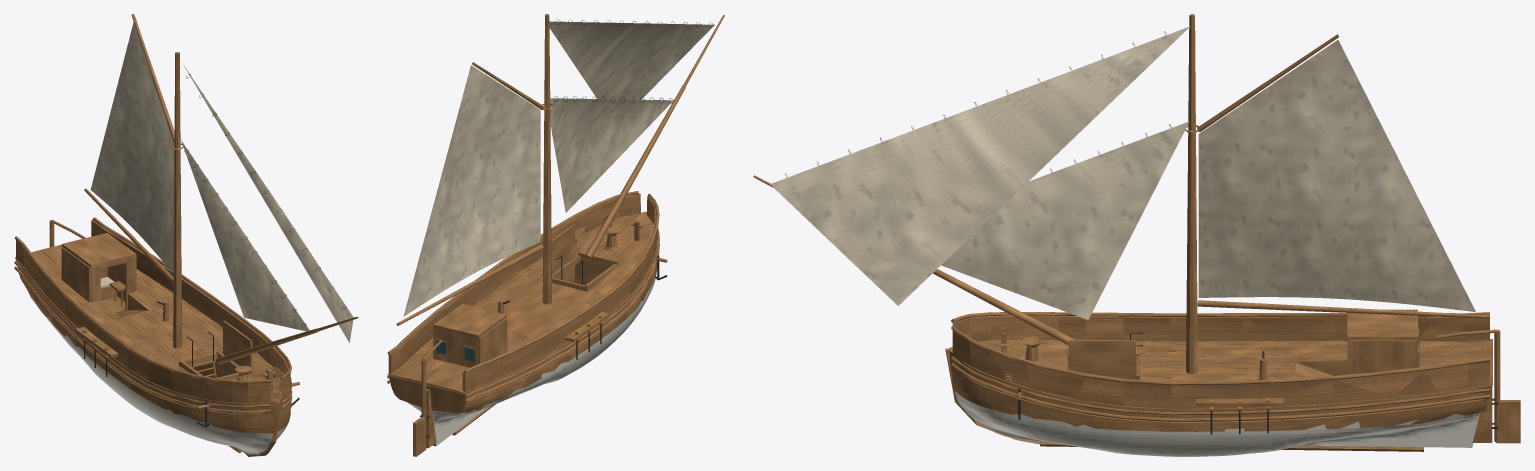
File: ship_lod2.glb
3 views of the same model, side by side, from view 1: azimuth 30°, elevation 25°; view 2: azimuth 150°, elevation 25°; view 3: azimuth 270°, elevation 25° (orthographic). The views are drawn at different scales.
Parts seen in each view (by area): view 1: lod2_gaff_main_set_1, lod2_sloop_hull_1, lod2_individual_deck_boards_1, lod2_inner_staysail_set_1, lod2_merchant_bulwark_1, lod2_merchant_bulwark_3, lod2_outer_jib_set_1, lod2_main_mast_timber_1, lod2_cabin_roof_1, lod2_caprail_1, lod2_cabin_side_1, lod2_wale_3 (+10 smaller); view 2: lod2_gaff_main_set_1, lod2_individual_deck_boards_1, lod2_outer_jib_set_1, lod2_sloop_hull_1, lod2_inner_staysail_set_1, lod2_merchant_bulwark_3, lod2_merchant_bulwark_1, lod2_main_mast_timber_1, lod2_cabin_roof_1, lod2_bowsprit_timber_1, lod2_caprail_1, lod2_cabin_rear_1 (+11 smaller); view 3: lod2_gaff_main_set_1, lod2_outer_jib_set_1, lod2_sloop_hull_1, lod2_inner_staysail_set_1, lod2_merchant_bulwark_3, lod2_merchant_bulwark_1, lod2_individual_deck_boards_1, lod2_main_mast_timber_1, lod2_caprail_3, lod2_cargo_hatch_lid_open_1, lod2_wale_7, lod2_cabin_side_3 (+9 smaller).
Part boxes in pixels (<box>): lod2_gaff_main_set_1: <box>90,18,174,273</box>; lod2_sloop_hull_1: <box>15,257,291,454</box>; lod2_individual_deck_boards_1: <box>15,244,280,400</box>; lod2_inner_staysail_set_1: <box>181,140,309,331</box>; lod2_merchant_bulwark_1: <box>16,238,273,403</box>; lod2_merchant_bulwark_3: <box>91,220,290,399</box>; lod2_outer_jib_set_1: <box>182,63,353,342</box>; lod2_main_mast_timber_1: <box>173,52,182,348</box>; lod2_cabin_roof_1: <box>62,233,136,267</box>; lod2_caprail_1: <box>15,236,270,383</box>; lod2_cabin_side_1: <box>61,247,91,302</box>; lod2_wale_3: <box>14,266,270,413</box>; lod2_gaff_main_set_1: <box>403,65,540,316</box>; lod2_individual_deck_boards_1: <box>388,212,653,393</box>; lod2_outer_jib_set_1: <box>549,21,714,99</box>; lod2_sloop_hull_1: <box>387,212,659,446</box>; lod2_inner_staysail_set_1: <box>550,98,673,212</box>; lod2_merchant_bulwark_3: <box>388,193,640,373</box>; lod2_merchant_bulwark_1: <box>462,196,658,392</box>; lod2_main_mast_timber_1: <box>542,14,552,304</box>; lod2_cabin_roof_1: <box>433,304,506,338</box>; lod2_bowsprit_timber_1: <box>585,85,685,259</box>; lod2_caprail_1: <box>464,193,659,373</box>; lod2_cabin_rear_1: <box>434,328,477,367</box>; lod2_gaff_main_set_1: <box>1198,40,1475,311</box>; lod2_outer_jib_set_1: <box>770,26,1190,305</box>; lod2_sloop_hull_1: <box>949,342,1492,456</box>; lod2_inner_staysail_set_1: <box>941,121,1189,319</box>; lod2_merchant_bulwark_3: <box>952,330,1489,408</box>; lod2_merchant_bulwark_1: <box>952,315,1489,341</box>; lod2_individual_deck_boards_1: <box>949,339,1492,385</box>; lod2_main_mast_timber_1: <box>1186,14,1197,373</box>; lod2_caprail_3: <box>951,326,1489,385</box>; lod2_cargo_hatch_lid_open_1: <box>1068,340,1135,379</box>; lod2_wale_7: <box>951,362,1489,421</box>; lod2_cabin_side_3: <box>1349,340,1416,374</box>.
Size of the model in its own units: 5.83 by 15.4 by 24.55.
Materials: 8 (6 with a texture image).
